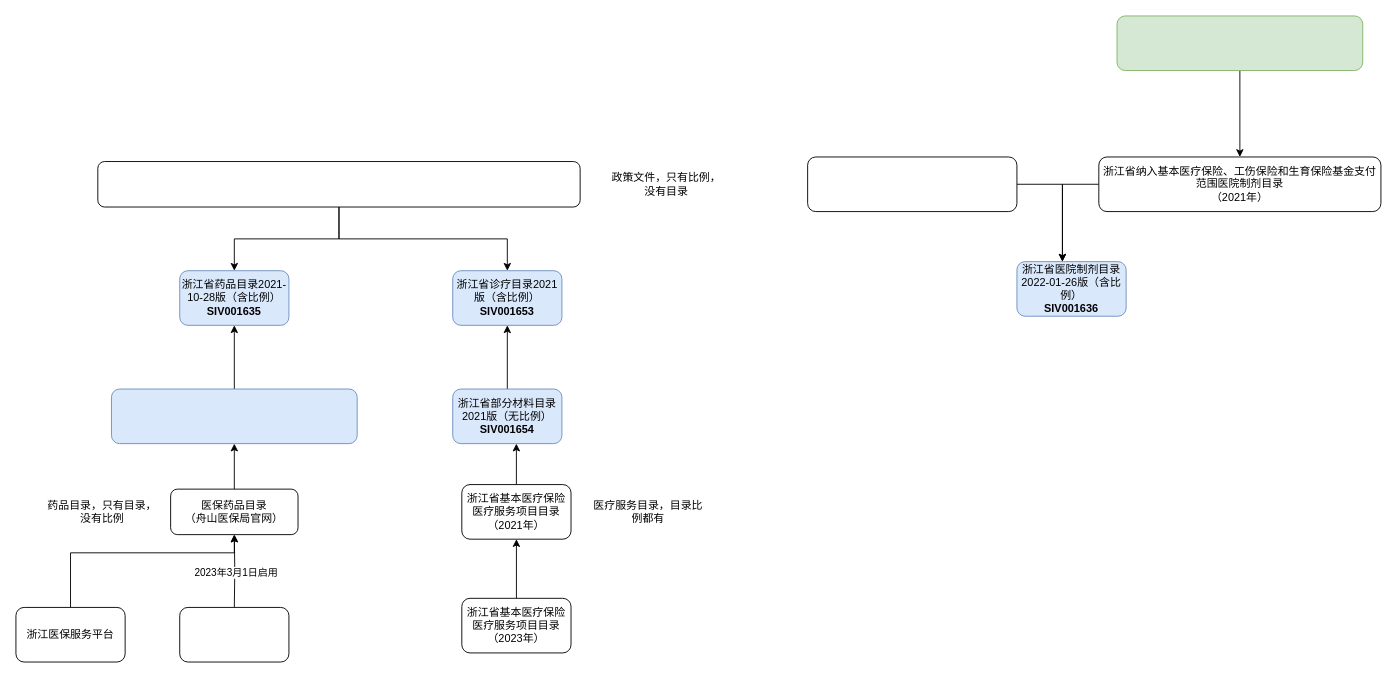
The diagram is 1397 pixels wide and 678 high, and some of its shapes have lost their labels. The centre of each missing label's shape, as x and y in pixels:
"<浙江省基本医疗保险、工伤保险和生育保险医院制剂支付管理暂行办法>" goes at point 912,184.
"国家基本医疗保险、工伤保险和生育保险药品目录（2022年）" goes at point 234,634.
"浙江省医疗保障局关于统一全省基本医疗保险目录范围内乙类先行自付比例的通知 （2021年）" goes at point 338,184.
"浙江省医疗保障局浙江省人力资源和社会保障厅关于公布第三批基本医疗保险、工伤保险和生育保险医院制剂的通知 （2013年）" goes at point 1239,43.
"浙江省药品目录2021-03-08（无比例） SIV001497" goes at point 234,416.
